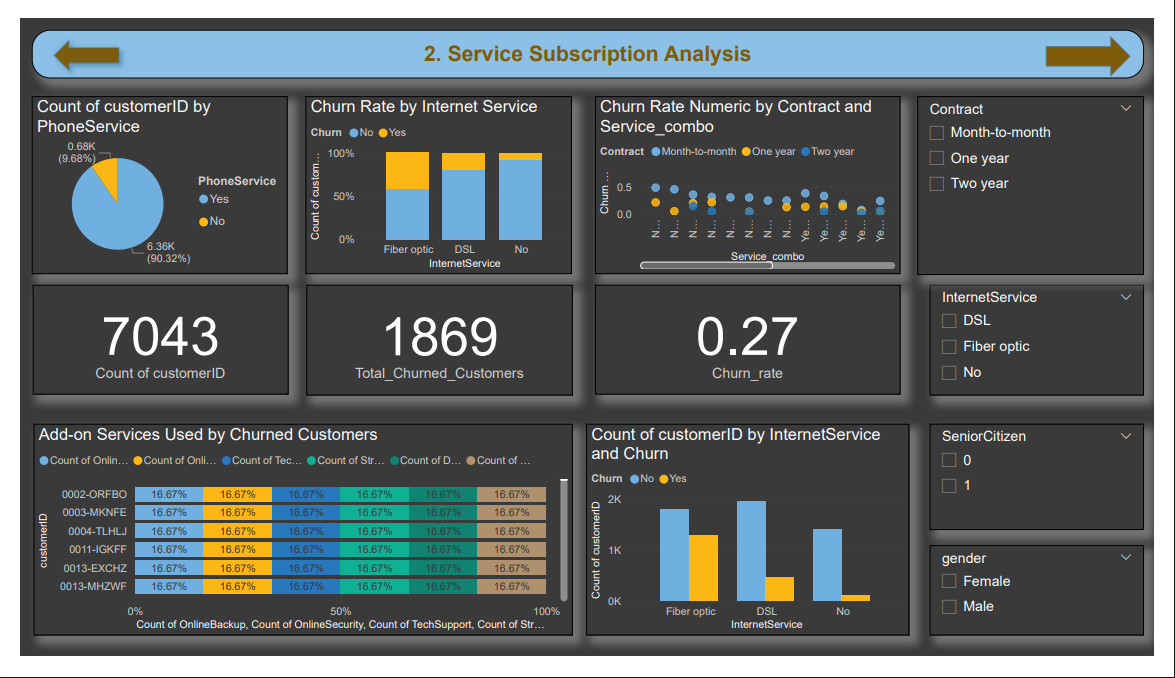

What the dashboard file says about the page in this screenshot:
{"tool":"powerbi","page":{"name":"Page 2","canvas":[1280,720],"ordinal":1},"visuals":[{"type":"textbox","box":[13.4,13.4,1255.9,54.9],"z":0},{"type":"pieChart","fields":{"Category":["WA_Fn-UseC_-Telco-Customer-Churn.PhoneService"],"Y":["CountNonNull(WA_Fn-UseC_-Telco-Customer-Churn.customerID)"]},"box":[13.4,87.8,289,201.2],"z":1000},{"type":"hundredPercentStackedColumnChart","title":"Churn Rate by Internet Service","fields":{"Category":["WA_Fn-UseC_-Telco-Customer-Churn.InternetService"],"Series":["WA_Fn-UseC_-Telco-Customer-Churn.Churn"],"Y":["CountNonNull(WA_Fn-UseC_-Telco-Customer-Churn.customerID)"]},"box":[321.9,87.8,301.2,201.2],"z":2000},{"type":"hundredPercentStackedBarChart","title":"Add-on Services Used by Churned Customers","fields":{"Y":["CountNonNull(WA_Fn-UseC_-Telco-Customer-Churn.OnlineBackup)","CountNonNull(WA_Fn-UseC_-Telco-Customer-Churn.OnlineSecurity)","CountNonNull(WA_Fn-UseC_-Telco-Customer-Churn.TechSupport)","CountNonNull(WA_Fn-UseC_-Telco-Customer-Churn.StreamingMovies)","CountNonNull(WA_Fn-UseC_-Telco-Customer-Churn.DeviceProtection)","CountNonNull(WA_Fn-UseC_-Telco-Customer-Churn.StreamingTV)"],"Category":["WA_Fn-UseC_-Telco-Customer-Churn.customerID"]},"box":[15.1,457.8,609.1,239.6],"z":3000},{"type":"scatterChart","fields":{"X":["cca data set.Service_combo"],"Y":["cca data set.Churn Rate Numeric"],"Series":["cca data set.Contract"]},"box":[648.7,87.8,345.1,201.2],"z":4000},{"type":"clusteredColumnChart","fields":{"Category":["cca data set.InternetService"],"Y":["CountNonNull(cca data set.customerID)"],"Series":["cca data set.Churn"]},"box":[639.4,457.8,364.5,239.6],"z":5000},{"type":"slicer","fields":{"Values":["cca data set.gender"]},"box":[1026.5,595.2,242.1,102.1],"z":6000},{"type":"slicer","fields":{"Values":["cca data set.SeniorCitizen"]},"box":[1026.5,457.8,242.1,119.8],"z":7000},{"type":"slicer","fields":{"Values":["cca data set.InternetService"]},"box":[1026.5,301.4,242.1,124.8],"z":8000},{"type":"slicer","fields":{"Values":["cca data set.Contract"]},"box":[1012.7,88.3,256,201.8],"z":9000},{"type":"card","fields":{"Values":["CountNonNull(cca data set.customerID)"]},"box":[13.9,301.4,288.8,123.6],"z":10000},{"type":"card","fields":{"Values":["cca data set.Total_Churned_Customers"]},"box":[322.8,301.4,301.4,124.8],"z":11000},{"type":"card","fields":{"Values":["cca data set.Churn_rate"]},"box":[649.5,301.4,344.3,123.6],"z":12000},{"type":"shape","box":[29,15.1,92.1,54.2],"z":13000},{"type":"shape","box":[1157.7,20.2,95.8,45.4],"z":14000}]}

Visuals, with their boxes in screenshot pixels (x1, y1, x2, y2), scaled from the page's 1280x720 canvas onto the 1175x678 screenshot:
textbox: [12,13,1165,64]
pieChart - WA_Fn-UseC_-Telco-Customer-Churn.PhoneService x CountNonNull(WA_Fn-UseC_-Telco-Customer-Churn.customerID): [12,83,278,272]
"Churn Rate by Internet Service" hundredPercentStackedColumnChart: [295,83,572,272]
"Add-on Services Used by Churned Customers" hundredPercentStackedBarChart: [14,431,573,657]
scatterChart - cca data set.Service_combo x cca data set.Churn Rate Numeric: [595,83,912,272]
clusteredColumnChart - cca data set.InternetService x CountNonNull(cca data set.customerID): [587,431,922,657]
slicer - cca data set.gender: [942,560,1165,657]
slicer - cca data set.SeniorCitizen: [942,431,1165,544]
slicer - cca data set.InternetService: [942,284,1165,401]
slicer - cca data set.Contract: [930,83,1165,273]
card - CountNonNull(cca data set.customerID): [13,284,278,400]
card - cca data set.Total_Churned_Customers: [296,284,573,401]
card - cca data set.Churn_rate: [596,284,912,400]
shape: [27,14,111,65]
shape: [1063,19,1151,62]
